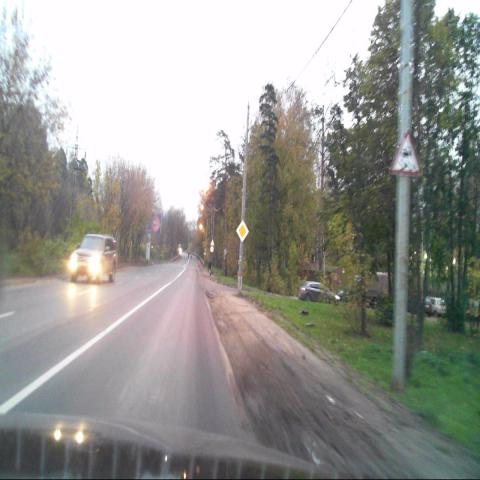1_15: (392, 131, 419, 176)
